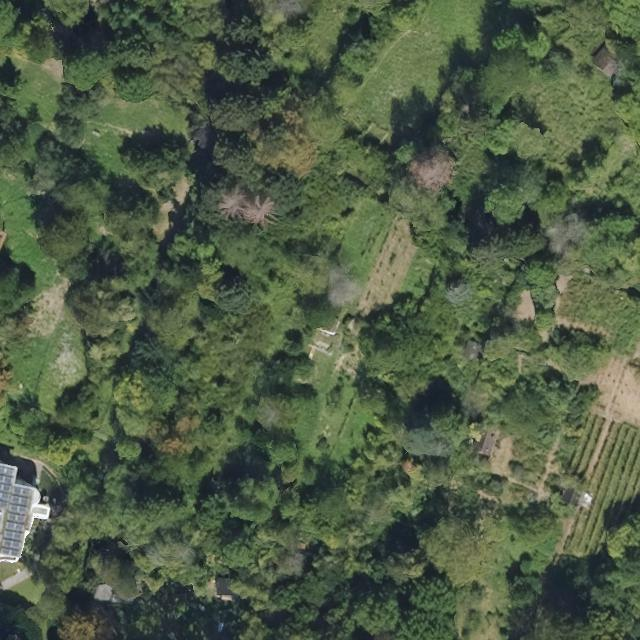PV: (0, 464, 33, 558)
